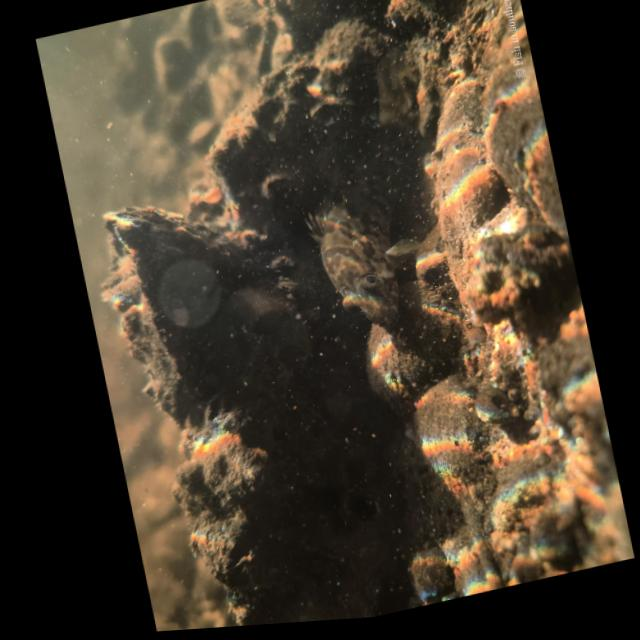Groupers: (295, 153, 438, 341)
